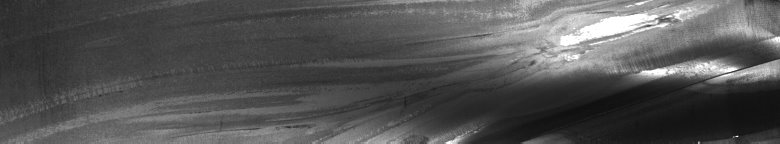ke: (440, 4, 776, 136)
